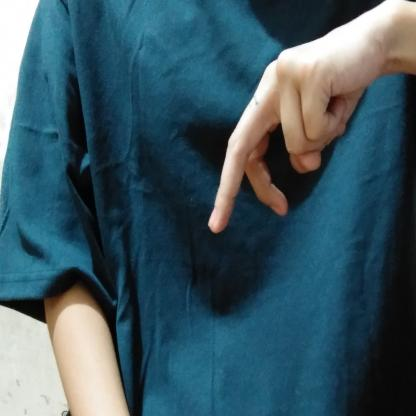run: (203, 9, 395, 244)
